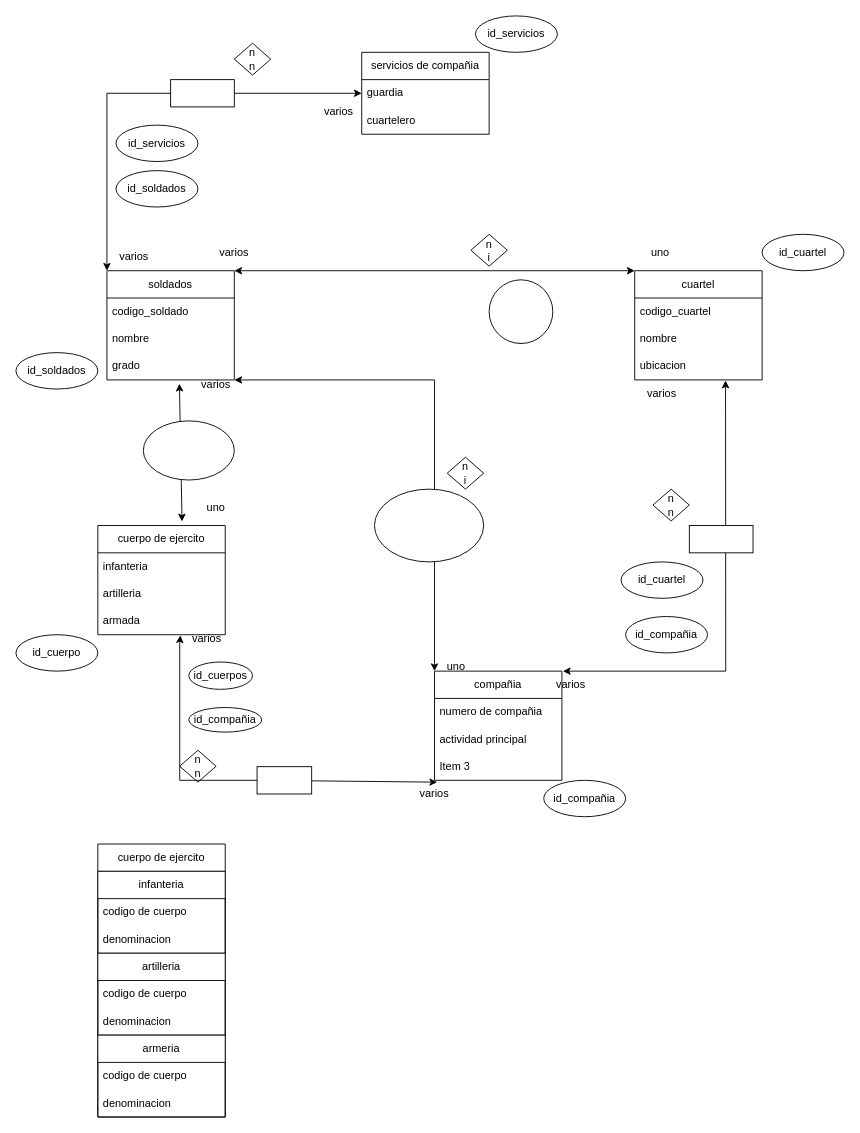
This 860x1133 diagram has some shape labels left out. Each missing label, with the centre of its shape:
"id_sold_compañia" belongs at (x=429, y=525).
"id_sold_cuar" belongs at (x=520, y=311).
"id_sold_cuer" belongs at (x=188, y=450).
